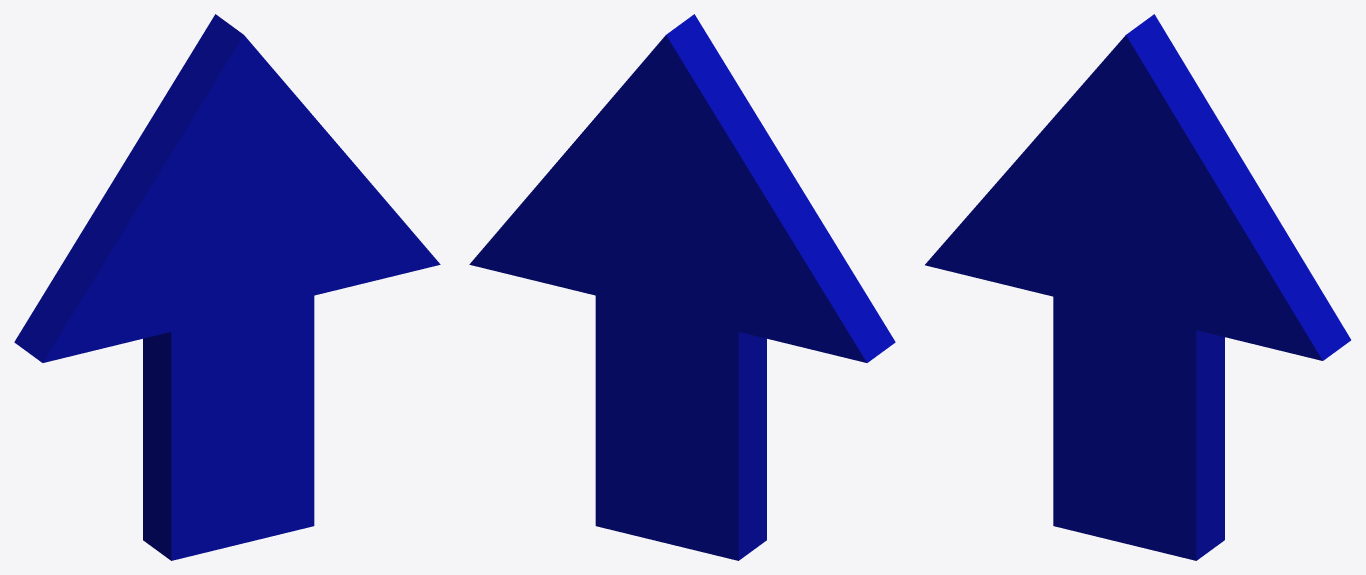
The model's file is Joystick_element_3.FBX.
3 renders of one model, left to right at view 1: azimuth 30°, elevation 25°; view 2: azimuth 150°, elevation 25°; view 3: azimuth 330°, elevation 25°, orthographic.
Visible parts, largest first — view 1: Joystick_element_3; view 2: Joystick_element_3; view 3: Joystick_element_3.
Boxes of the visible parts, box(x1,y1,x2,y2) form: Joystick_element_3: box(14, 14, 440, 560); Joystick_element_3: box(469, 14, 895, 560); Joystick_element_3: box(925, 14, 1350, 560).
Bounding box in the file's own units: 24.18 × 29.51 × 3.
